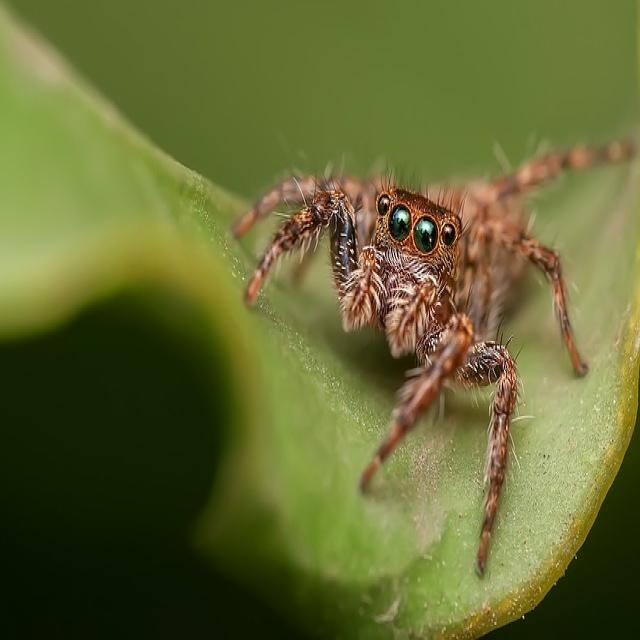spyder: (232, 143, 635, 574)
